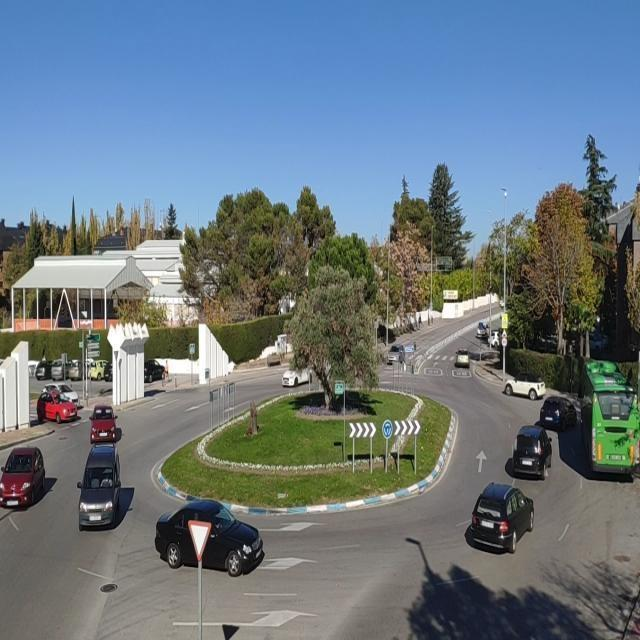Bus: (578, 357, 640, 478)
Car: (154, 502, 264, 576), (469, 482, 535, 555), (76, 446, 125, 528), (0, 446, 46, 507), (511, 425, 554, 479), (37, 390, 77, 423), (540, 396, 578, 430), (89, 406, 119, 442), (503, 375, 544, 399), (43, 383, 80, 407), (281, 366, 313, 387), (50, 358, 76, 381), (143, 359, 166, 383), (68, 359, 92, 381), (87, 360, 109, 381), (35, 360, 57, 380), (387, 344, 405, 365), (454, 349, 470, 368), (488, 330, 502, 348), (475, 321, 489, 338), (590, 333, 604, 350), (104, 362, 115, 382)
